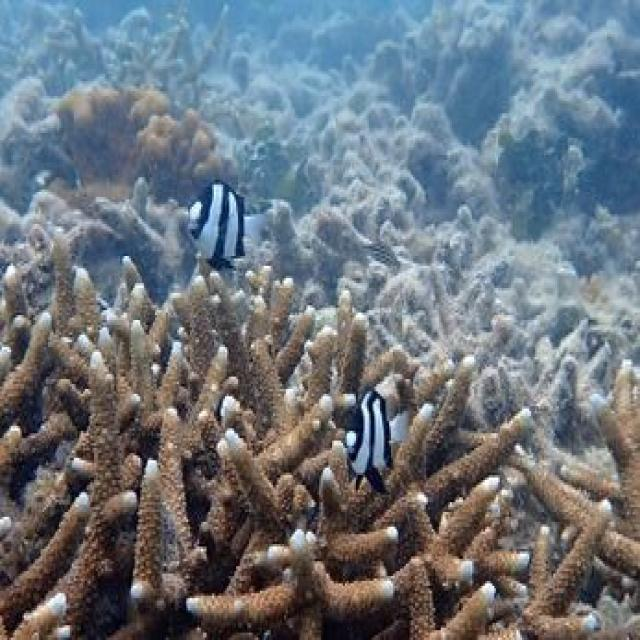ThreeStripedDamselfish: (343, 389, 411, 495), (188, 182, 264, 263)
